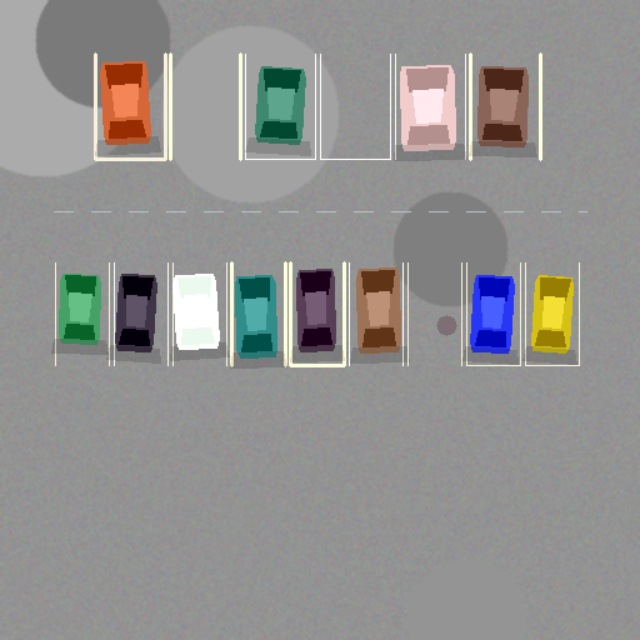space-empty: (170, 54, 240, 159), (320, 54, 390, 159), (408, 262, 461, 365)
space-occupied: (95, 54, 165, 159), (245, 54, 315, 159), (395, 54, 465, 159), (470, 54, 540, 159), (55, 262, 109, 365), (114, 262, 168, 365), (172, 262, 226, 365), (231, 262, 285, 365), (290, 262, 344, 365), (466, 262, 520, 365), (525, 262, 579, 365), (349, 262, 402, 365)
